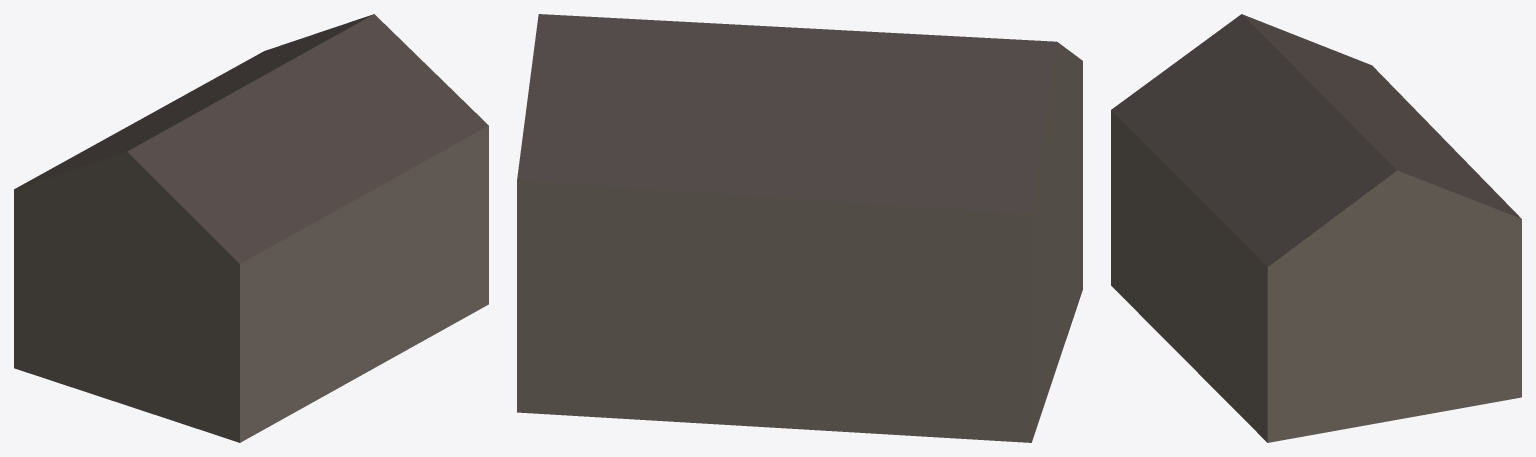
3 views of the same model, side by side, from view 1: azimuth 30°, elevation 25°; view 2: azimuth 150°, elevation 25°; view 3: azimuth 270°, elevation 25° (orthographic). The views are drawn at different scales.
Parts seen in each view (by area): view 1: HP-w1197254156; view 2: HP-w1197254156; view 3: HP-w1197254156.
Part boxes in pixels (box(x1,y1,x2,y2)): HP-w1197254156: box(14, 14, 488, 442); HP-w1197254156: box(517, 14, 1082, 442); HP-w1197254156: box(1111, 14, 1521, 442).
Bounding box in the file's own units: 14.79 × 8.52 × 12.72.
